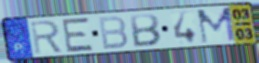4: (173, 10, 200, 45)
B: (129, 13, 163, 48), (97, 15, 130, 51)
E: (61, 16, 95, 54)
M: (195, 6, 237, 45)
R: (29, 19, 65, 56)
